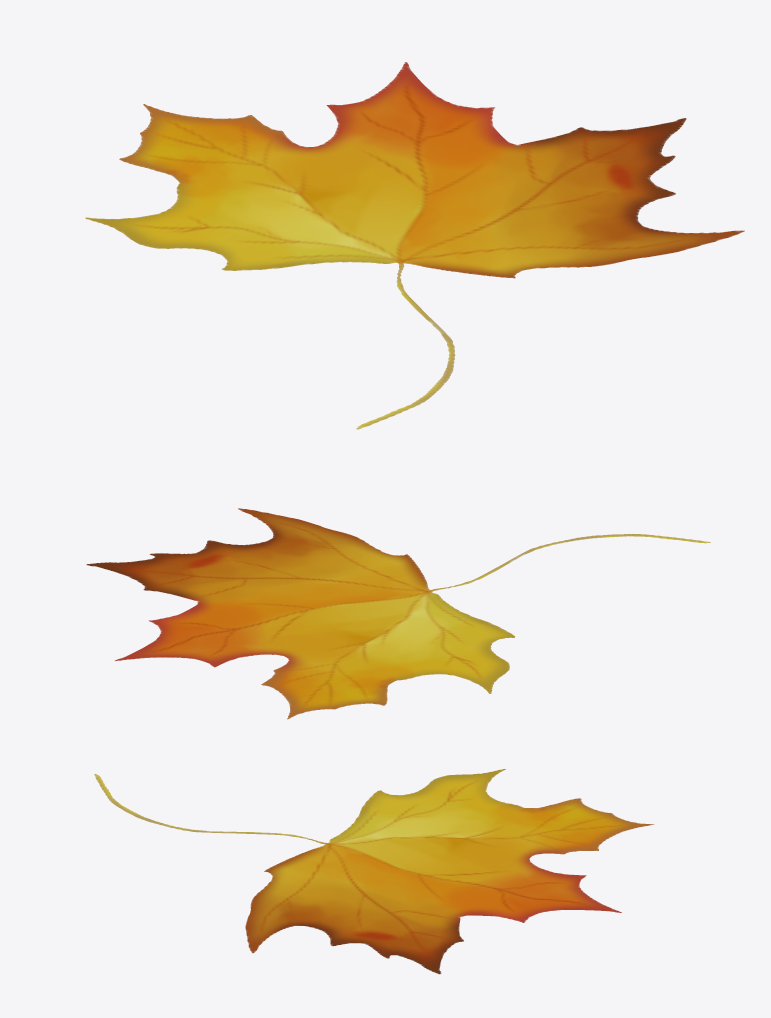
Rendered from dead_leaf_3.fbx.
The picture shows the model from 3 angles, top to bottom: view 1: azimuth 30°, elevation 25°; view 2: azimuth 150°, elevation 25°; view 3: azimuth 270°, elevation 25°; orthographic projection. The views are drawn at different scales.
Parts seen in each view (by area): view 1: dead_leaf_3; view 2: dead_leaf_3; view 3: dead_leaf_3.
Boxes of the visible parts, x1,y1,x2,y2 form: dead_leaf_3: [85, 62, 744, 429]; dead_leaf_3: [86, 508, 710, 719]; dead_leaf_3: [94, 769, 654, 974].
Bounding box in the file's own units: 21.95 × 0.4335 × 28.27.
